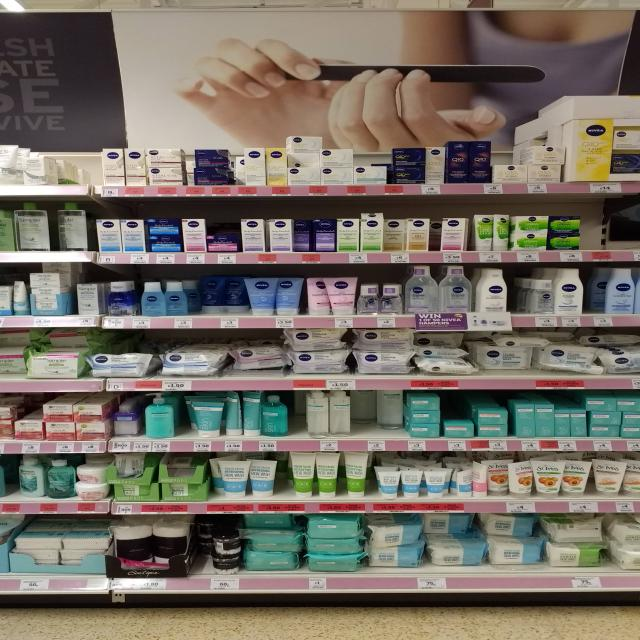unorganised: (13, 199, 88, 252), (352, 391, 404, 438), (184, 147, 243, 185), (414, 342, 475, 376), (479, 347, 536, 380), (211, 453, 249, 500), (202, 278, 246, 315), (230, 349, 286, 376), (544, 355, 602, 378), (432, 216, 467, 251), (488, 512, 537, 537), (286, 135, 323, 168), (455, 462, 486, 497), (303, 276, 330, 316), (223, 392, 245, 437), (488, 458, 514, 495), (428, 516, 468, 537), (385, 212, 405, 252), (11, 281, 28, 319), (493, 214, 510, 251), (293, 217, 311, 251)
